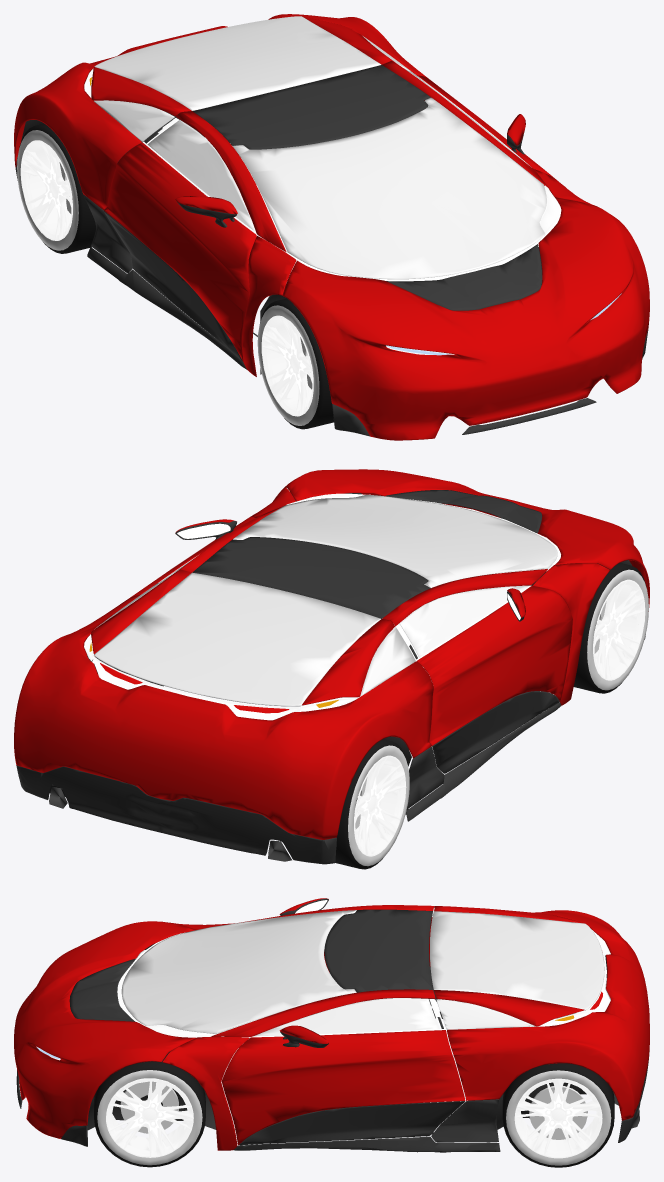
File: concept-car.glb
3 renders of one model, top to bottom at view 1: azimuth 30°, elevation 25°; view 2: azimuth 150°, elevation 25°; view 3: azimuth 270°, elevation 25°, orthographic. The views are drawn at different scales.
Visible parts, largest first — view 1: BodyHood, BodyWindshield, BodyRearwindow, BodyDoorRColor1, BodyRearPanelsColor1, BodyRoofPanel, BodyPillars, BodyPanelsColor2, BodyHoodTopgrill, BodyDoorRWindow, WheelFrontRRim, WheelRearRRim (+7 smaller); view 2: BodyRearPanelsColor1, BodyRearwindow, BodyWindshield, BodyPanelsColor2, BodyDoorRColor1, BodyRoofPanel, BodyHood, BodyPillars, BodyDoorRColor2, WheelFrontRRim, WheelRearRRim, BodyDoorRWindow (+6 smaller); view 3: BodyWindshield, BodyRearPanelsColor1, BodyDoorLColor1, BodyHood, BodyRearwindow, BodyRoofPanel, BodyPillars, BodyDoorLColor2, BodyPanelsColor2, WheelRearLRim, WheelFrontLRim, WheelFrontL (+10 smaller).
Boxes of the visible parts, x1,y1,x2,y2 form: BodyHood: (282,197,649,440); BodyWindshield: (233,97,546,279); BodyRearwindow: (94,16,381,110); BodyDoorRColor1: (104,142,256,361); BodyRearPanelsColor1: (14,14,427,210); BodyRoofPanel: (193,65,430,149); BodyPillars: (176,61,595,376); BodyPanelsColor2: (15,111,648,436); BodyHoodTopgrill: (386,244,542,310); BodyDoorRWindow: (147,120,256,233); WheelFrontRRim: (261,315,313,416); WheelRearRRim: (20,140,72,240); BodyRearPanelsColor1: (14,569,433,839); BodyRearwindow: (94,572,380,706); BodyWindshield: (233,494,557,587); BodyPanelsColor2: (16,634,645,864); BodyDoorRColor1: (416,585,572,745); BodyRoofPanel: (192,537,430,618); BodyHood: (283,469,649,611); BodyPillars: (178,487,609,705); BodyDoorRColor2: (432,691,559,773); WheelFrontRRim: (593,579,645,680); WheelRearRRim: (354,755,406,856); BodyDoorRWindow: (399,585,528,657); BodyWindshield: (121,910,356,1033); BodyRearPanelsColor1: (434,906,649,1120); BodyDoorLColor1: (221,1030,465,1145); BodyHood: (14,921,195,1138); BodyRearwindow: (430,911,604,1010); BodyRoofPanel: (324,909,432,992); BodyPillars: (162,905,435,1150); BodyDoorLColor2: (239,1101,465,1145); BodyPanelsColor2: (16,1001,649,1152); WheelRearLRim: (514,1078,602,1158); WheelFrontLRim: (106,1078,193,1157); WheelFrontL: (94,1054,205,1167).
Size of the model in its own units: 2.34 by 1.15 by 4.36.
